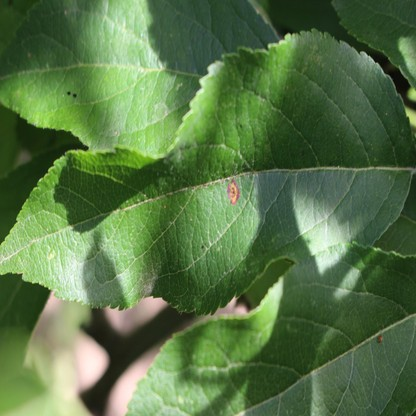rust: (228, 181, 239, 205), (377, 332, 382, 343)
